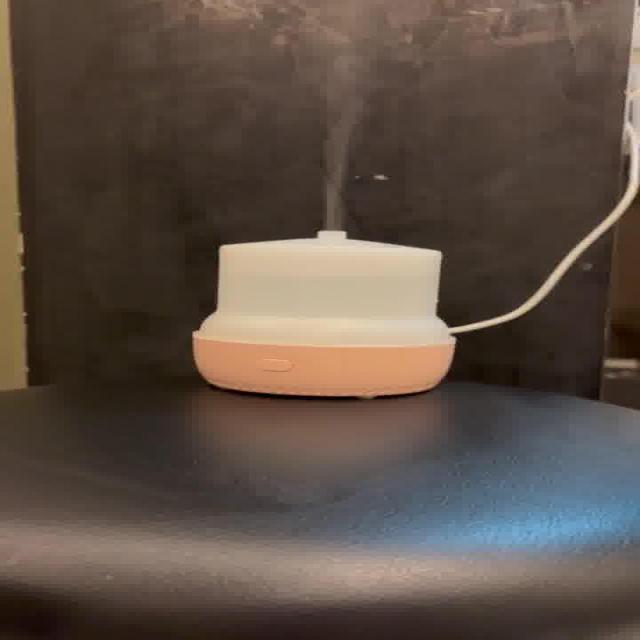fire: (314, 46, 368, 230)
